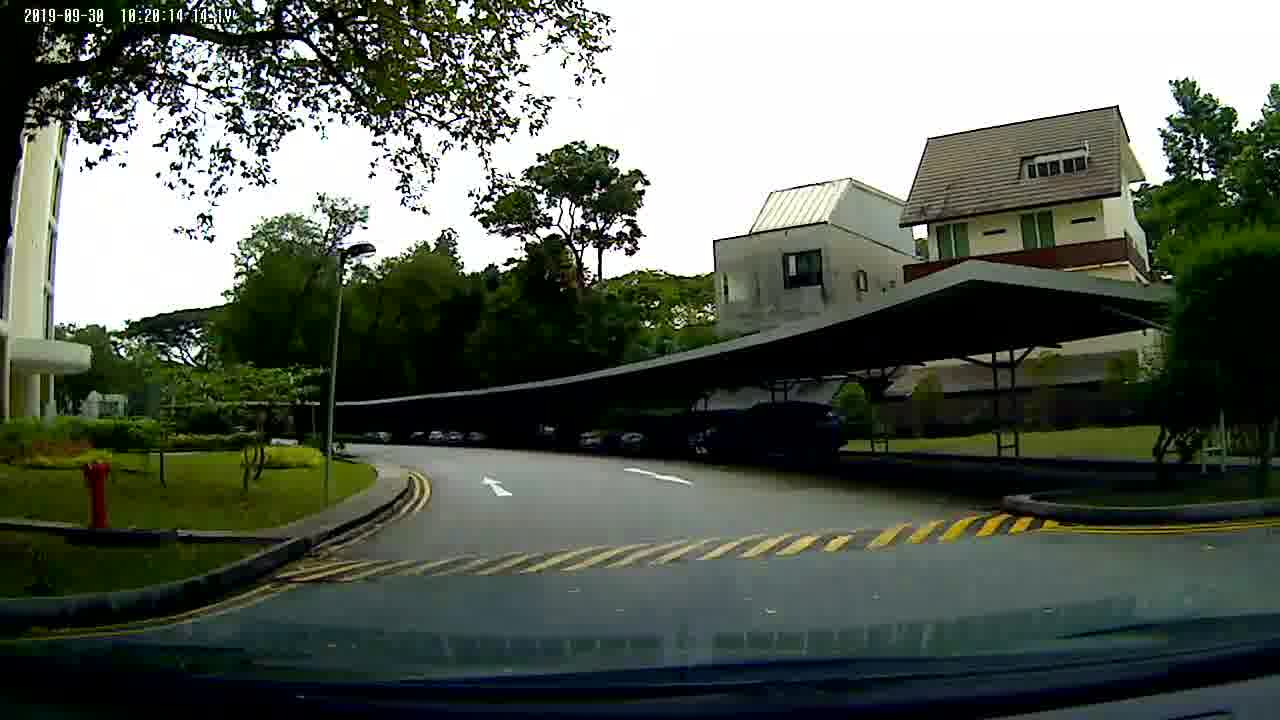car: (694, 400, 855, 465)
